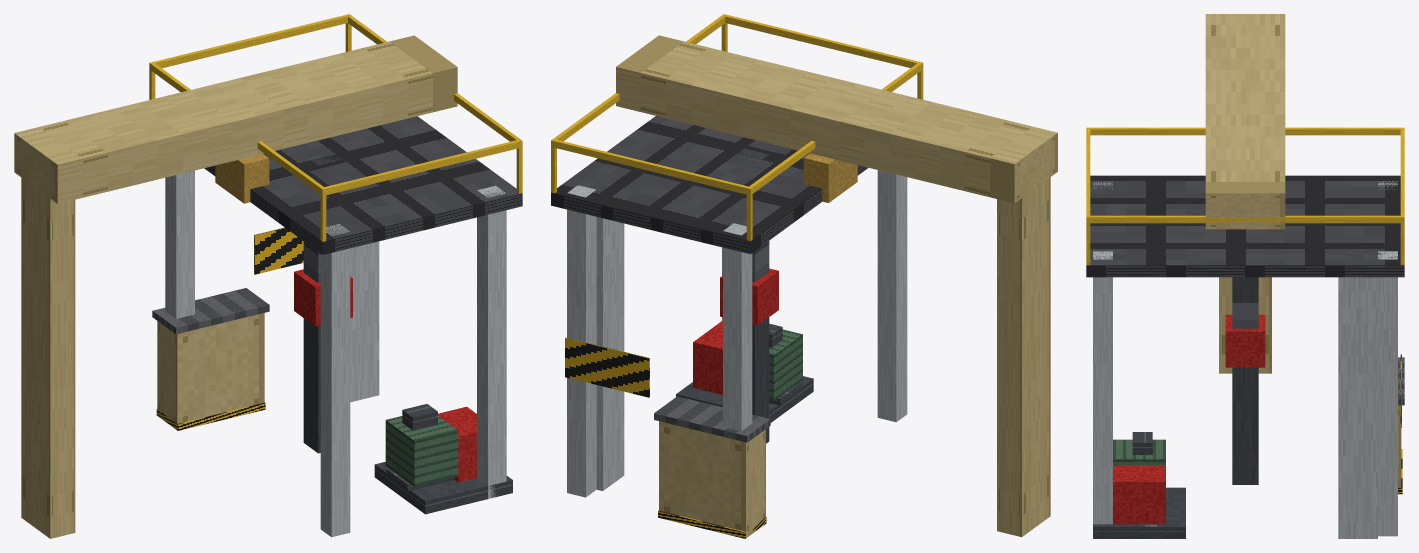
Rendered from tank_loader.obj.
The picture shows the model from 3 angles, left to right: view 1: azimuth 30°, elevation 25°; view 2: azimuth 150°, elevation 25°; view 3: azimuth 270°, elevation 25°; orthographic projection. The views are drawn at different scales.
Parts seen in each view (by area): view 1: gantry, deck, gantry_post, cabinet, leg2, leg3, stair, leg0, motor, riser, pump_skid, cab_roof (+10 smaller); view 2: gantry, deck, gantry_post, cabinet, leg2, leg1, stair, leg0, sign, riser, cab_roof, motor (+9 smaller); view 3: deck, gantry, stair, leg1, leg3, riser, pump, rail_l, pump_skid, rail_r, gantry_post, riser_valve (+4 smaller).
Part boxes in pixels (x1,y1,x2,y2): gantry: [14, 35, 457, 203]; deck: [204, 116, 522, 254]; gantry_post: [21, 178, 75, 538]; cabinet: [157, 313, 264, 429]; leg2: [320, 224, 350, 537]; leg3: [477, 185, 506, 498]; stair: [350, 241, 379, 402]; leg0: [165, 170, 194, 318]; motor: [385, 416, 458, 486]; riser: [303, 153, 342, 453]; pump_skid: [374, 462, 512, 514]; cab_roof: [152, 288, 269, 334]; gantry: [616, 35, 1057, 203]; deck: [551, 116, 868, 254]; gantry_post: [997, 177, 1050, 537]; cabinet: [659, 421, 765, 538]; leg2: [877, 170, 907, 422]; leg1: [567, 185, 596, 497]; stair: [596, 217, 624, 490]; leg0: [723, 223, 752, 430]; sign: [565, 337, 649, 397]; riser: [738, 148, 769, 443]; cab_roof: [654, 396, 770, 442]; motor: [769, 329, 802, 400]; deck: [1086, 175, 1404, 277]; gantry: [1205, 14, 1285, 229]; stair: [1338, 277, 1377, 538]; leg1: [1378, 251, 1397, 536]; leg3: [1093, 251, 1112, 524]; riser: [1232, 277, 1258, 484]; pump: [1113, 465, 1165, 524]; rail_l: [1086, 215, 1404, 223]; pump_skid: [1093, 487, 1185, 538]; rail_r: [1090, 127, 1400, 135]; gantry_post: [1219, 277, 1271, 373]; riser_valve: [1225, 314, 1265, 367].
Size of the model in its own units: 4 by 3.62 by 3.
